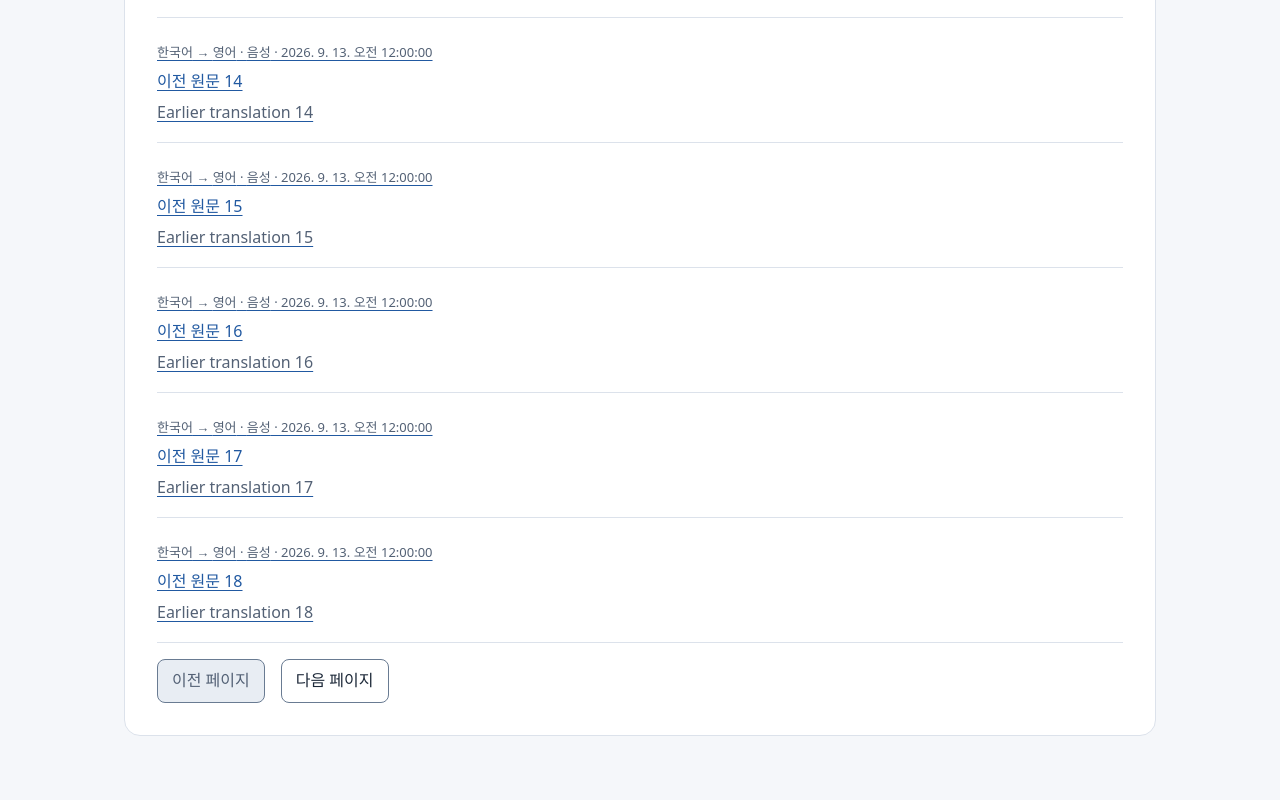
Test: fetches authenticated pages with total, follows detail, and returns to the same page
(page scrolled)
Expected: the button "이전 페이지" is disabled, left=157, top=659, right=265, bottom=703
Click the button "다음 페이지" at (335, 681), box left=281, top=659, right=389, bottom=703
(page scrolled)
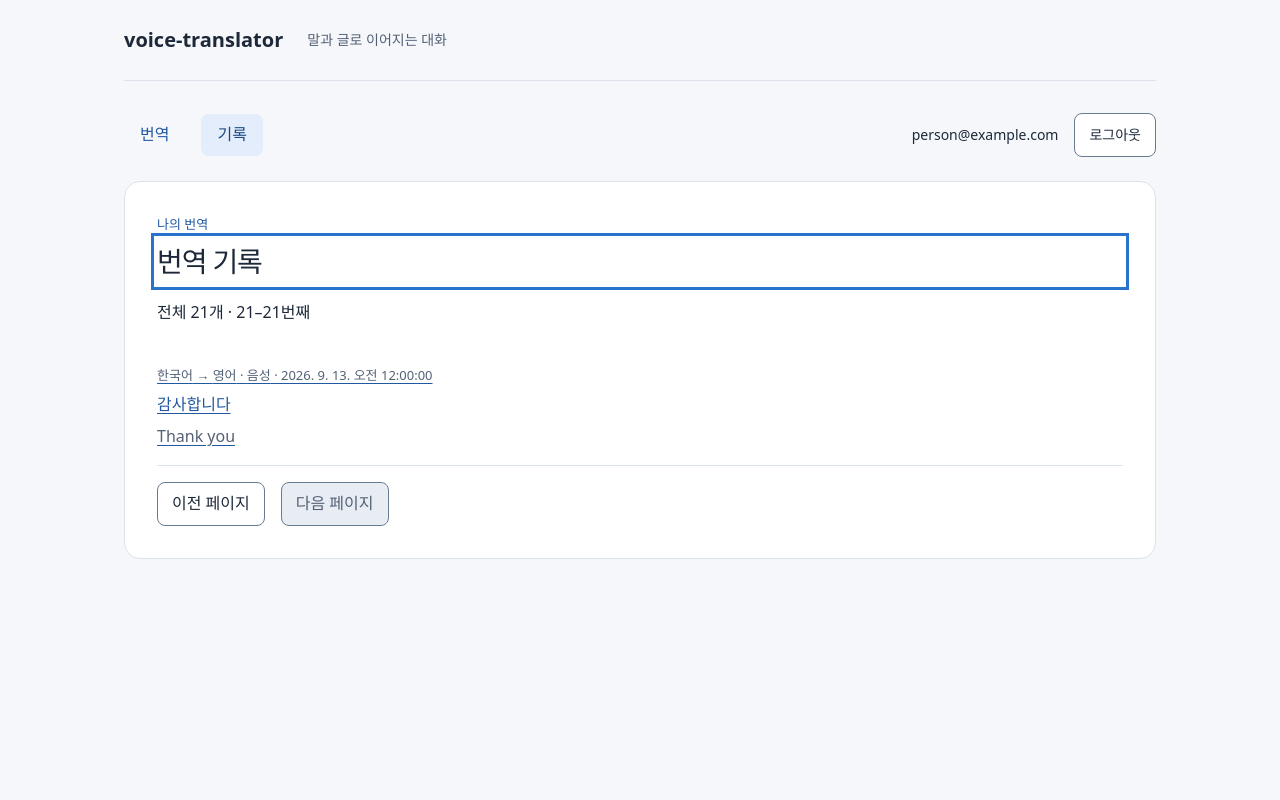
Expected: the text "전체 21개 · 21–21번째" is shown, left=157, top=301, right=310, bottom=323
Expected: the button "다음 페이지" is disabled, left=281, top=482, right=389, bottom=526
Click the link "감사합니다" at (175, 375), box left=157, top=366, right=432, bottom=447
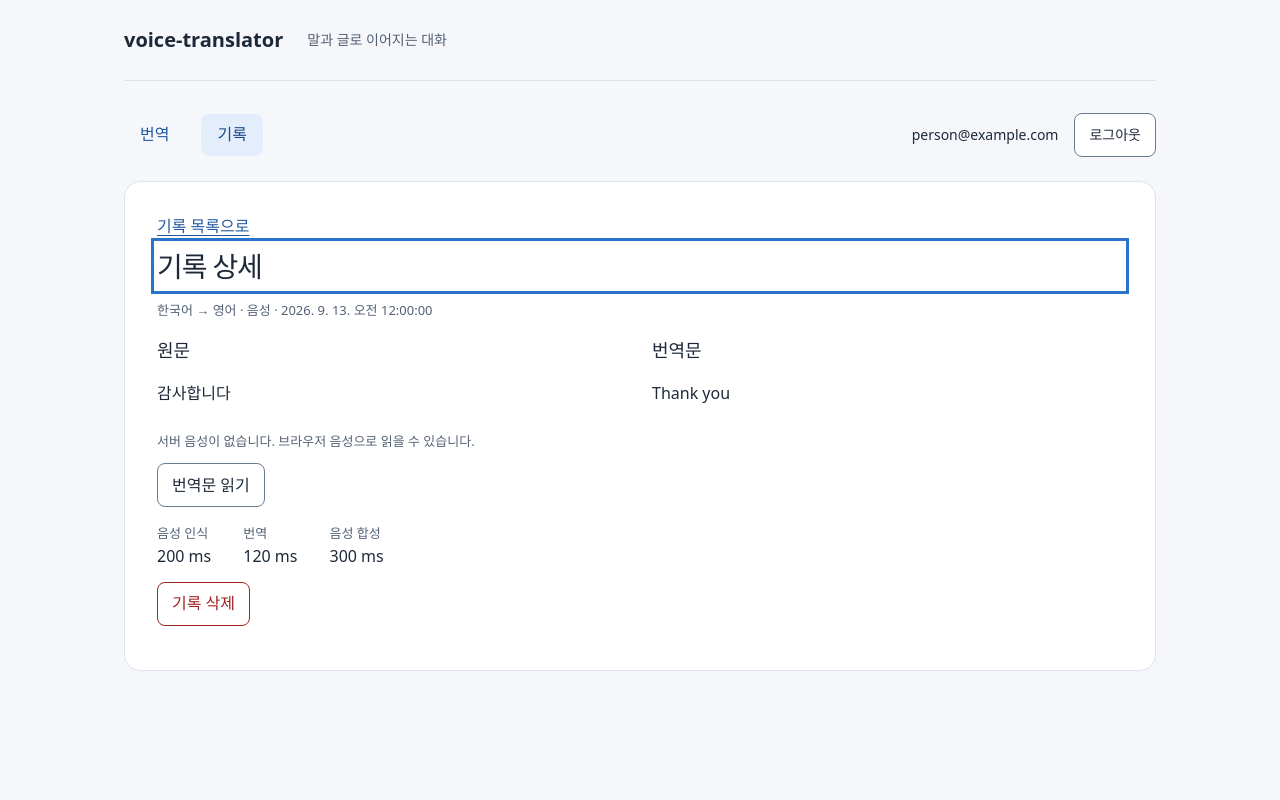
Expected: the heading "번역문" is shown, left=652, top=338, right=702, bottom=362
Click the button "번역문 읽기" at (211, 485), box left=157, top=463, right=265, bottom=507
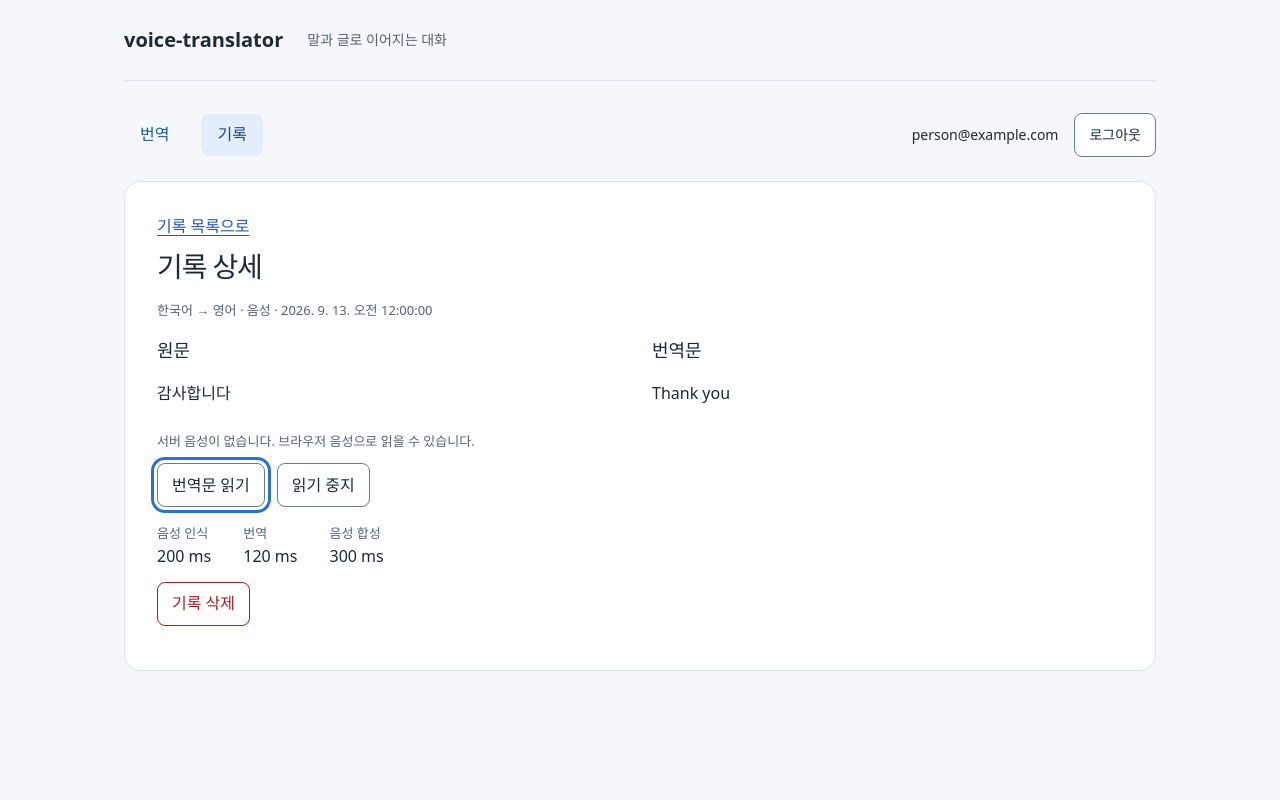
Click the link "기록 목록으로" at (203, 226), box left=157, top=215, right=250, bottom=237
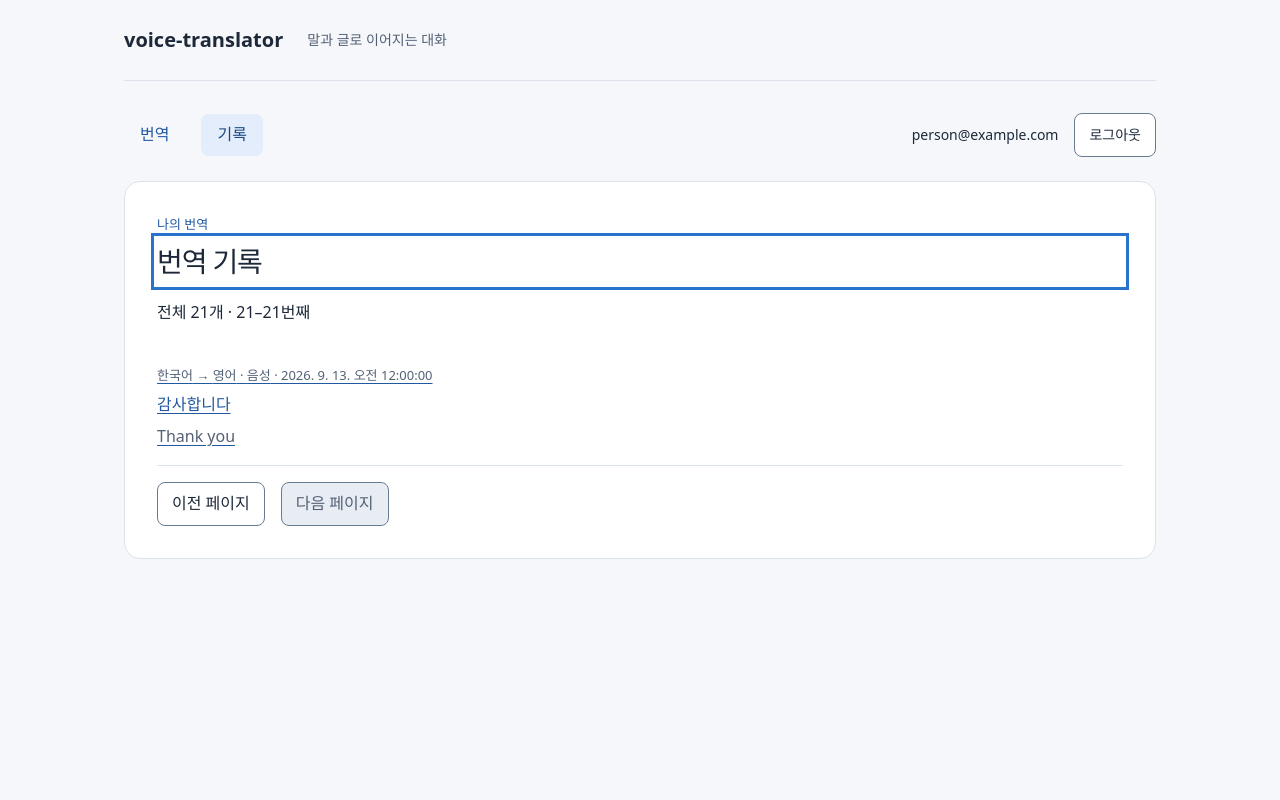
Expected: the text "전체 21개 · 21–21번째" is shown, left=157, top=301, right=310, bottom=323
Click the button "이전 페이지" at (211, 504), box left=157, top=482, right=265, bottom=526
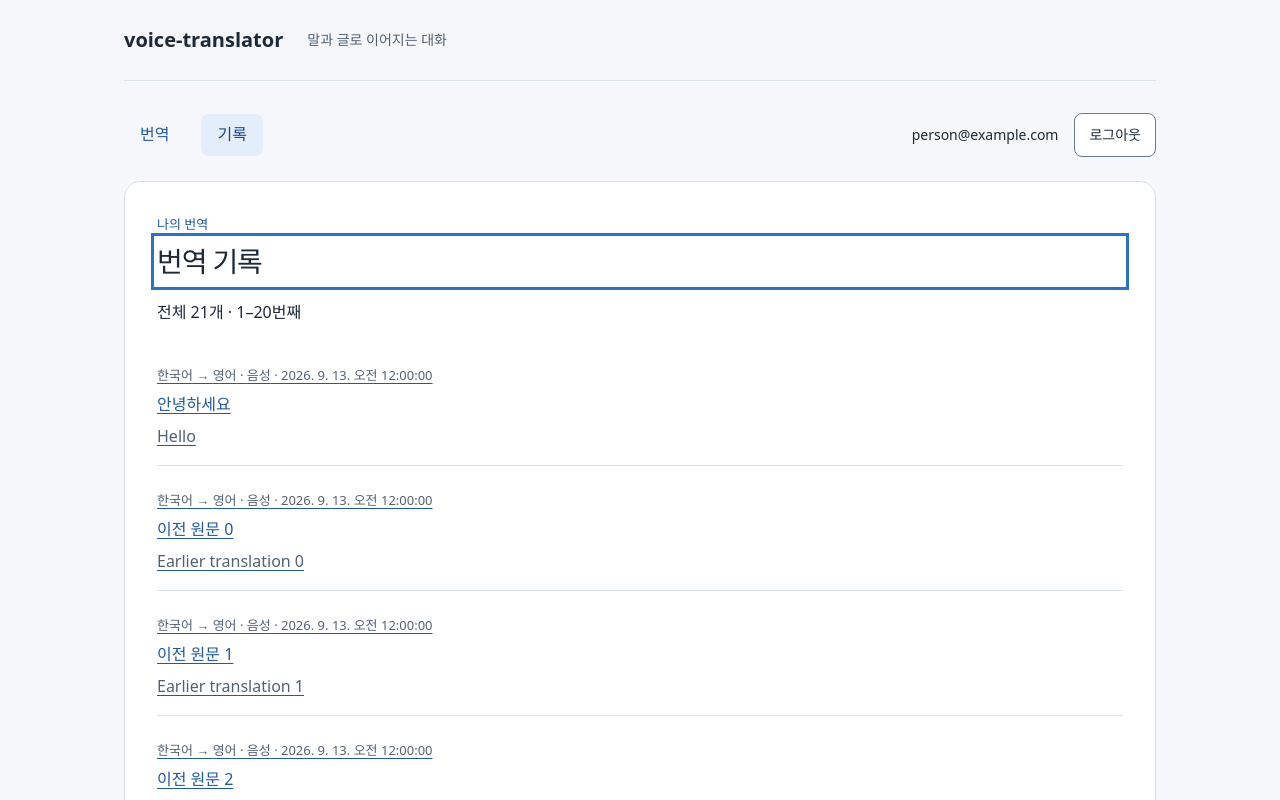
Expected: the text "전체 21개 · 1–20번째" is shown, left=157, top=301, right=301, bottom=323
